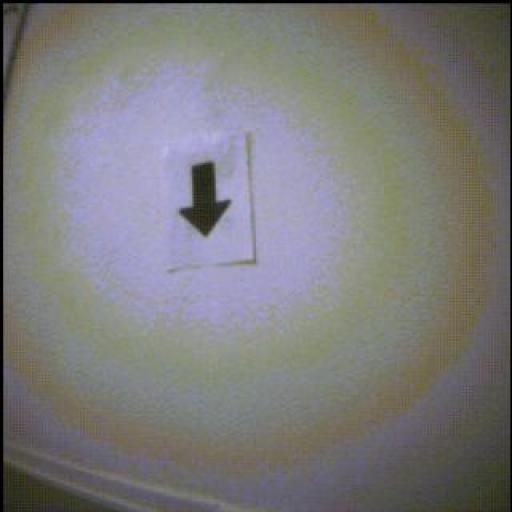arrow: (181, 163, 232, 238)
